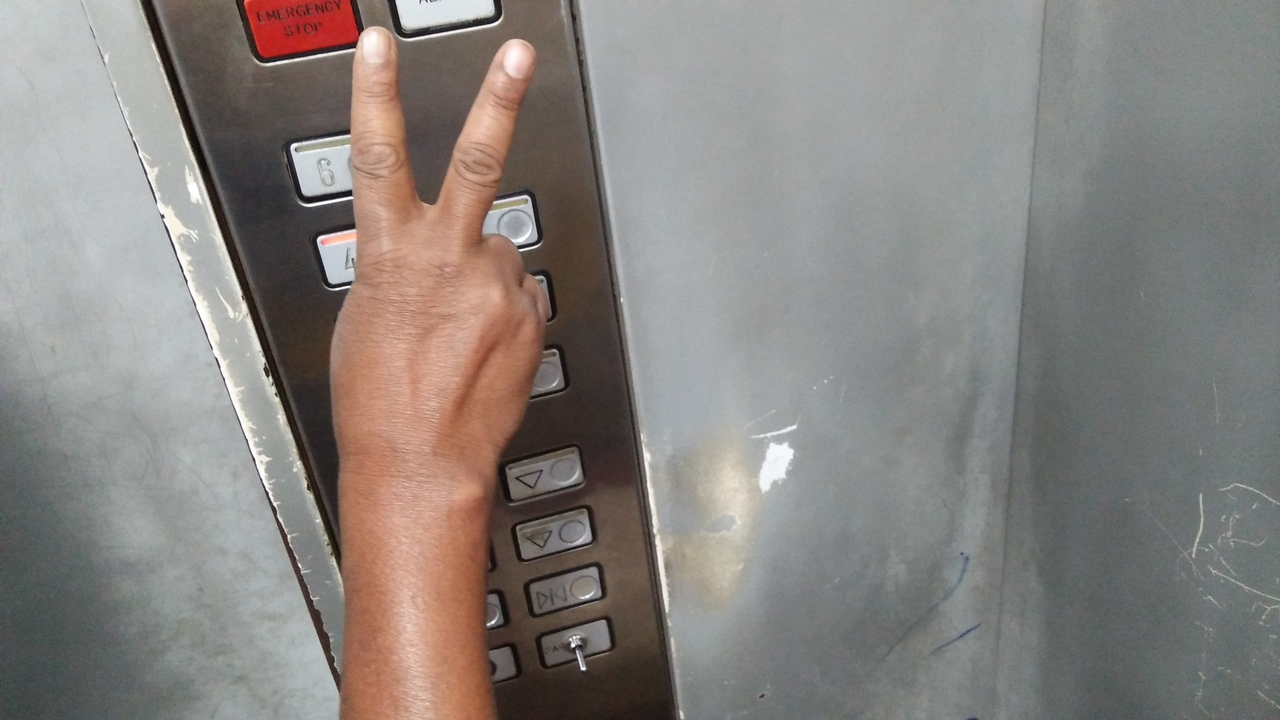fingertip: (348, 24, 400, 78), (484, 34, 538, 86)
